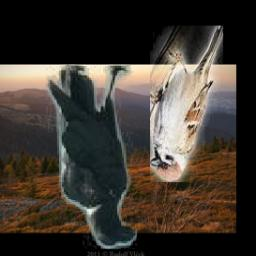Crow: (47, 64, 138, 249)
Sparrow: (150, 27, 223, 183)
